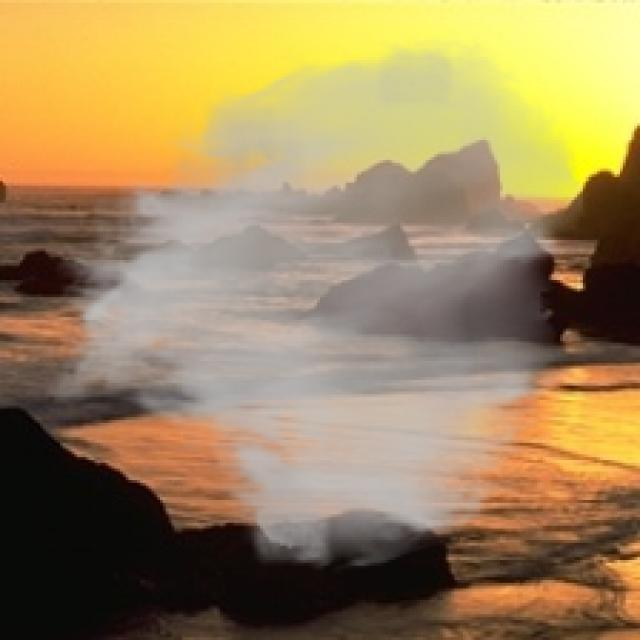Smoke: (42, 34, 588, 574)
